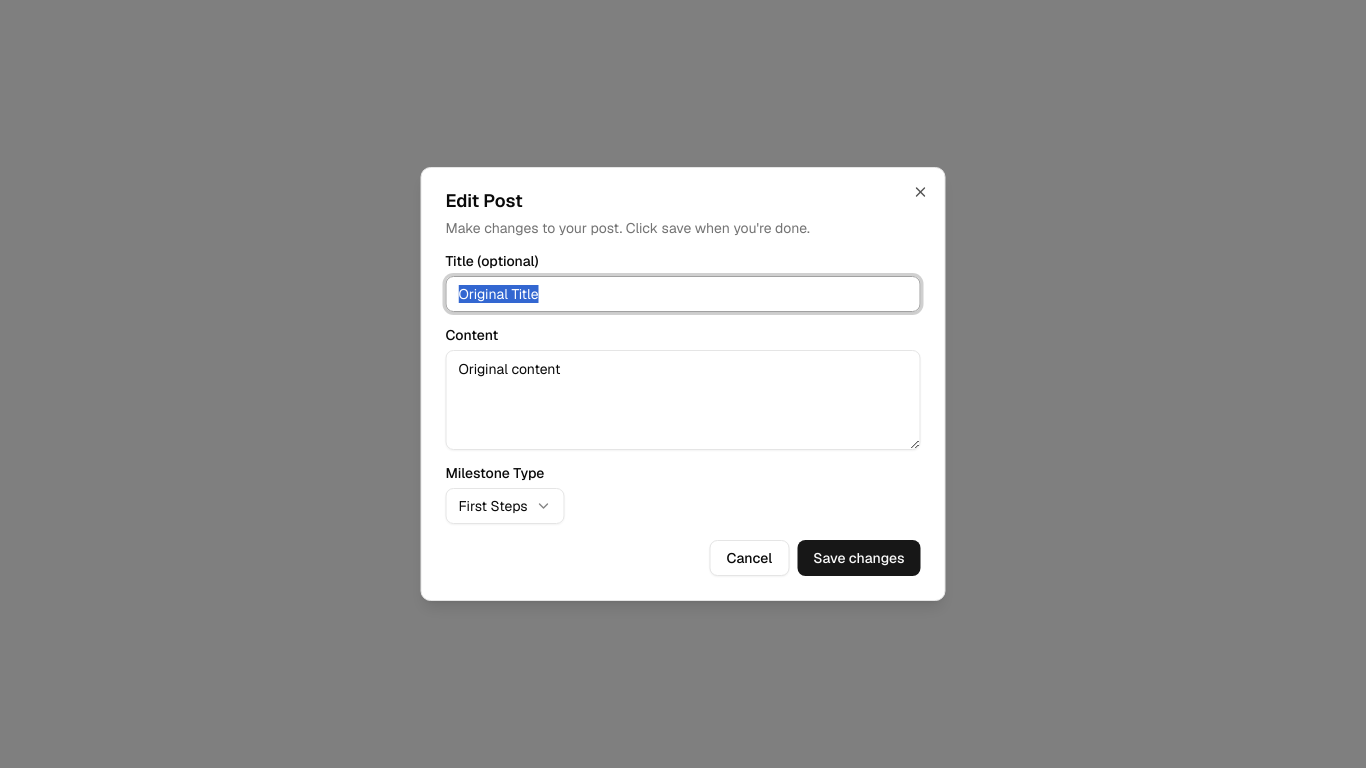
Scenario: EditPostDialog › Form Interaction › validates content is required
Clear the text box showing "Original content": (683,400) left=446, top=350, right=920, bottom=450
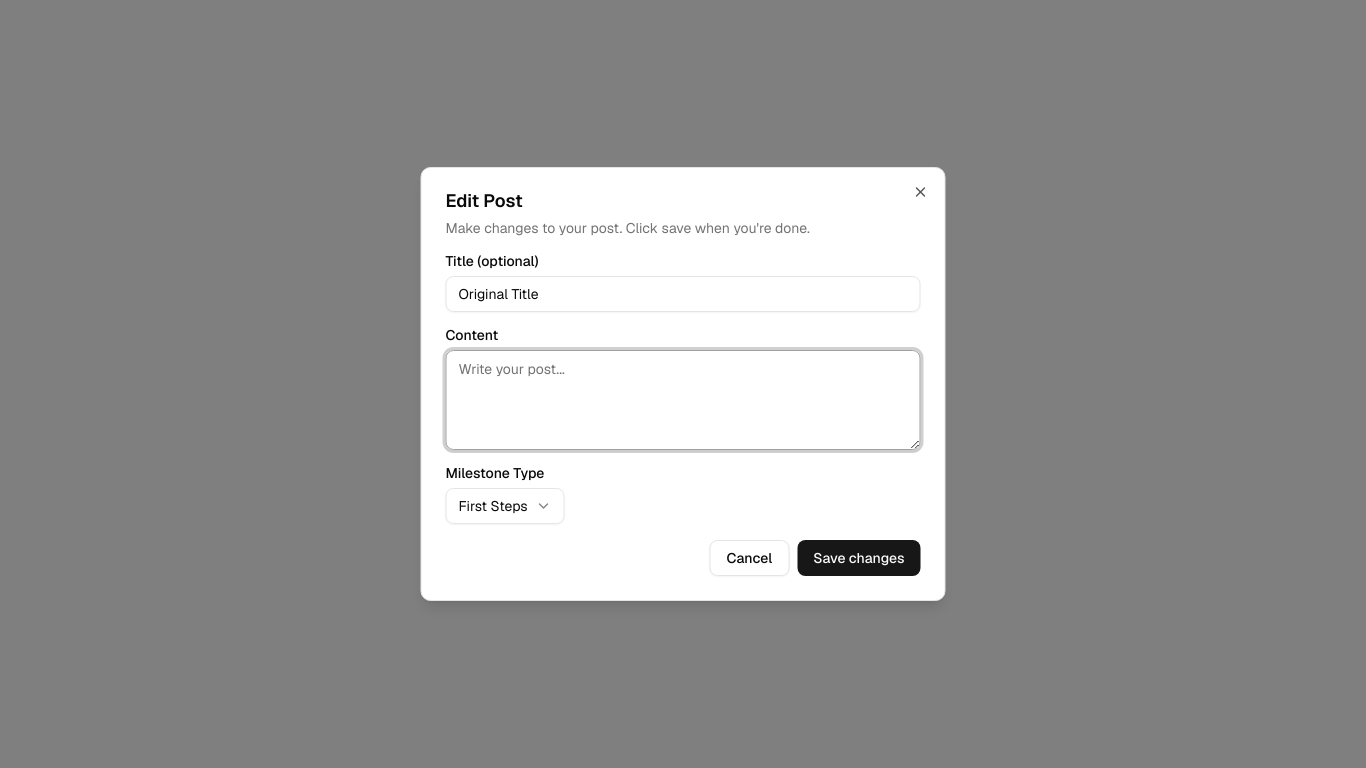
Click the button "Save changes": (859,558) left=797, top=540, right=920, bottom=576
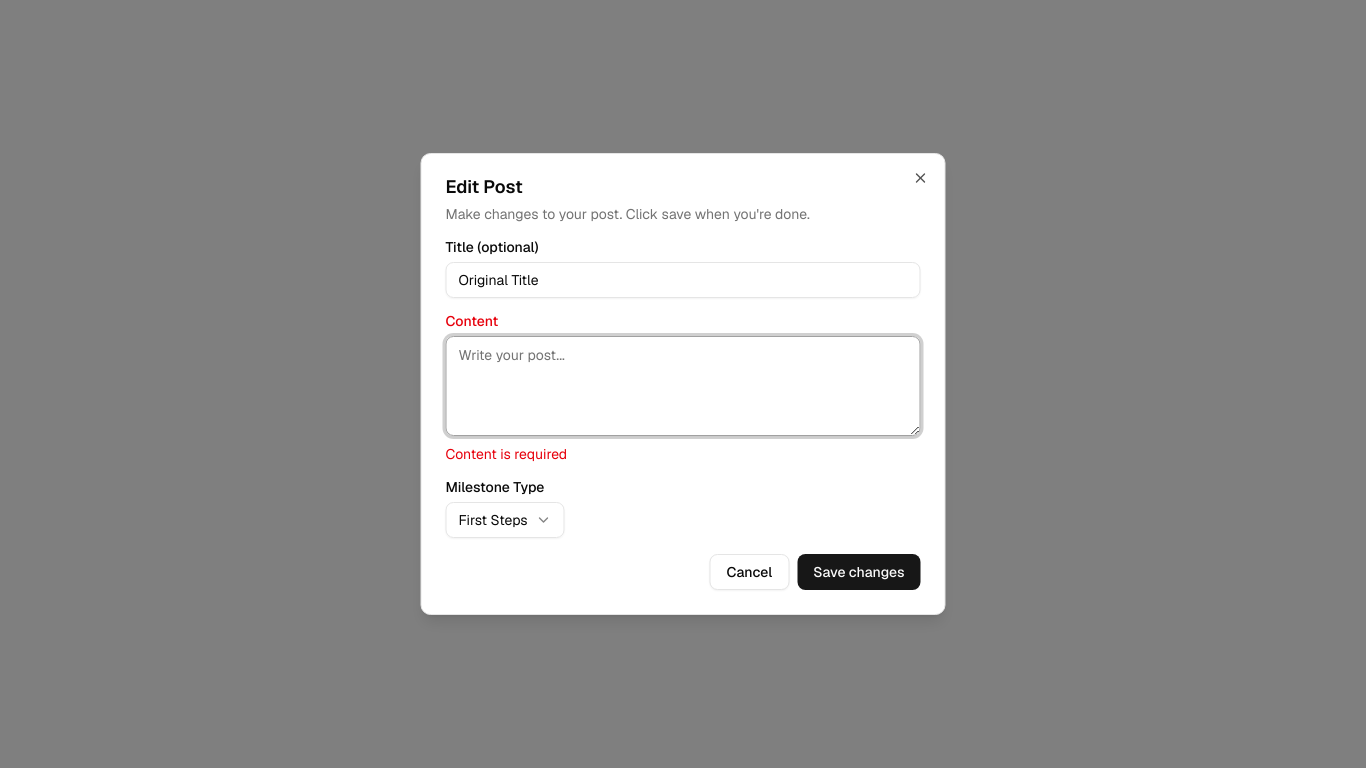
Expected: the text "Content is required" is shown, left=446, top=445, right=567, bottom=463
